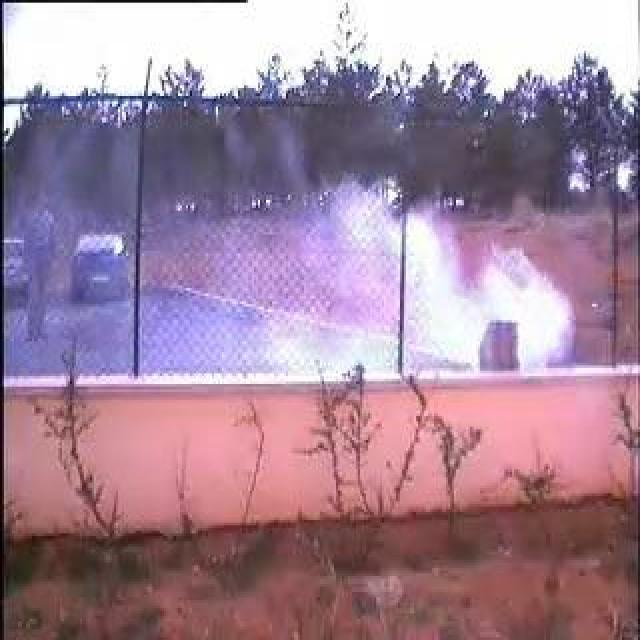Smoke: (264, 155, 570, 368)
